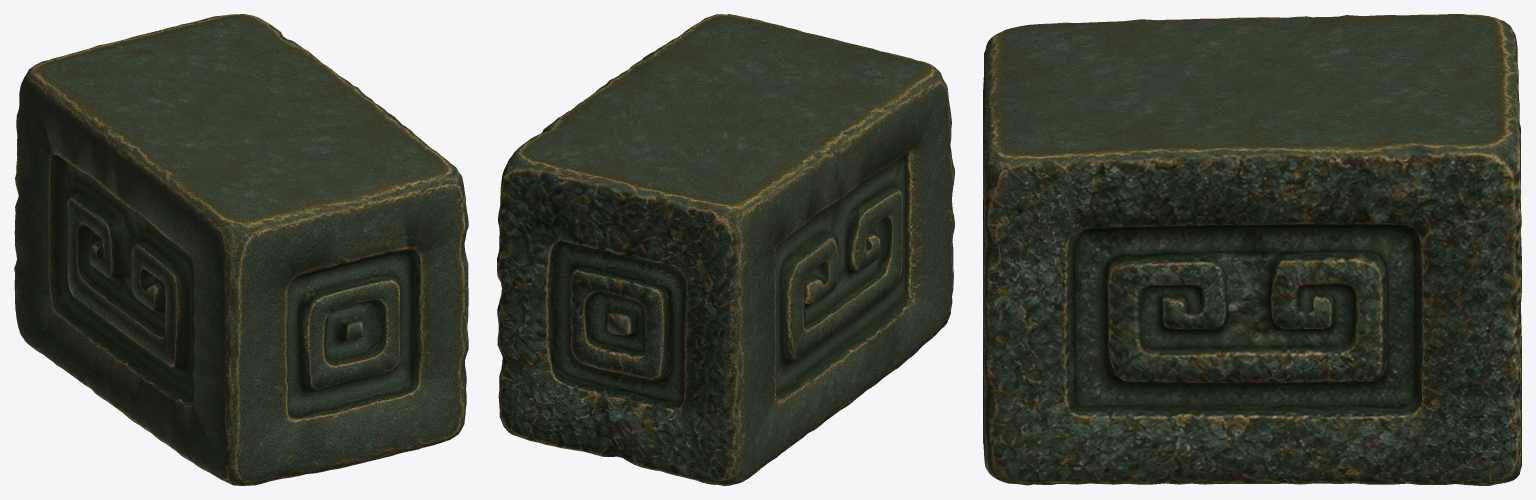
The model's file is stone-cube.glb.
The picture shows the model from 3 angles, left to right: view 1: azimuth 30°, elevation 25°; view 2: azimuth 150°, elevation 25°; view 3: azimuth 270°, elevation 25°; orthographic projection. The views are drawn at different scales.
Parts seen in each view (by area): view 1: tripo_node_324bcae5-e48d-47e4-a0c7-d654da131de1; view 2: tripo_node_324bcae5-e48d-47e4-a0c7-d654da131de1; view 3: tripo_node_324bcae5-e48d-47e4-a0c7-d654da131de1.
Part boxes in pixels (<box>): tripo_node_324bcae5-e48d-47e4-a0c7-d654da131de1: <box>14,14,468,485</box>; tripo_node_324bcae5-e48d-47e4-a0c7-d654da131de1: <box>497,14,954,485</box>; tripo_node_324bcae5-e48d-47e4-a0c7-d654da131de1: <box>983,14,1521,485</box>.
Size of the model in its own units: 0.6348 by 0.6934 by 0.998.
1 material, 1 textured.
